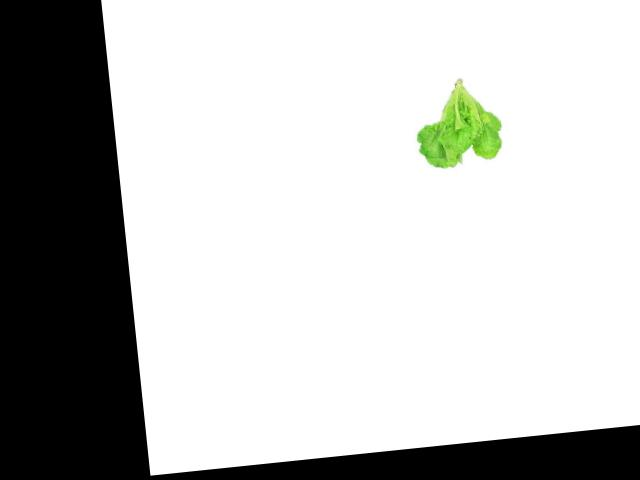lettuce: (406, 72, 508, 176)
